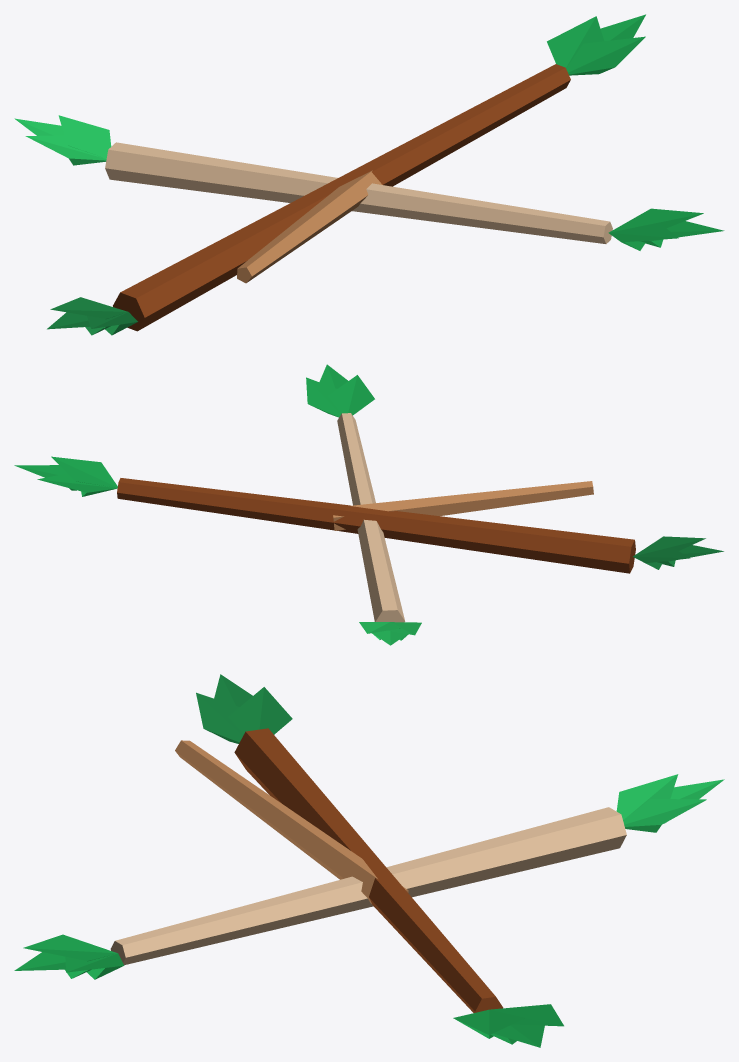
The model's file is branches.fbx.
3 views of the same model, one above another, from view 1: azimuth 30°, elevation 25°; view 2: azimuth 150°, elevation 25°; view 3: azimuth 270°, elevation 25° (orthographic). The views are drawn at different scales.
Parts seen in each view (by area): view 1: Branches; view 2: Branches; view 3: Branches.
Part boxes in pixels (x1,y1,x2,y2): Branches: [14, 14, 724, 335]; Branches: [14, 364, 723, 645]; Branches: [14, 674, 724, 1047].
Size of the model in its own units: 2.08 by 0.1758 by 1.53.
Materials: 1 (1 with a texture image).
